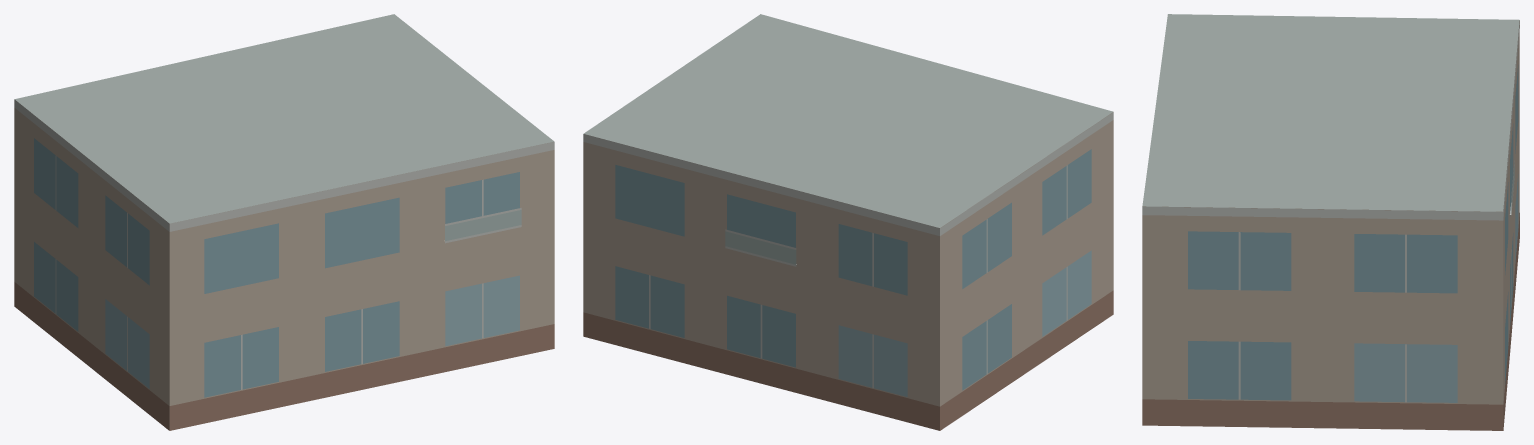
File: survey-upis-32916222.glb
3 renders of one model, left to right at view 1: azimuth 30°, elevation 25°; view 2: azimuth 150°, elevation 25°; view 3: azimuth 270°, elevation 25°, orthographic. The views are drawn at different scales.
Parts seen in each view (by area): view 1: survey-upis-32916222.tmp; view 2: survey-upis-32916222.tmp; view 3: survey-upis-32916222.tmp.
Boxes of the visible parts, bbox=[...] form: survey-upis-32916222.tmp: bbox=[14, 14, 554, 430]; survey-upis-32916222.tmp: bbox=[583, 14, 1113, 430]; survey-upis-32916222.tmp: bbox=[1142, 14, 1519, 430].
Size of the model in its own units: 11.82 by 6.1 by 9.53.
